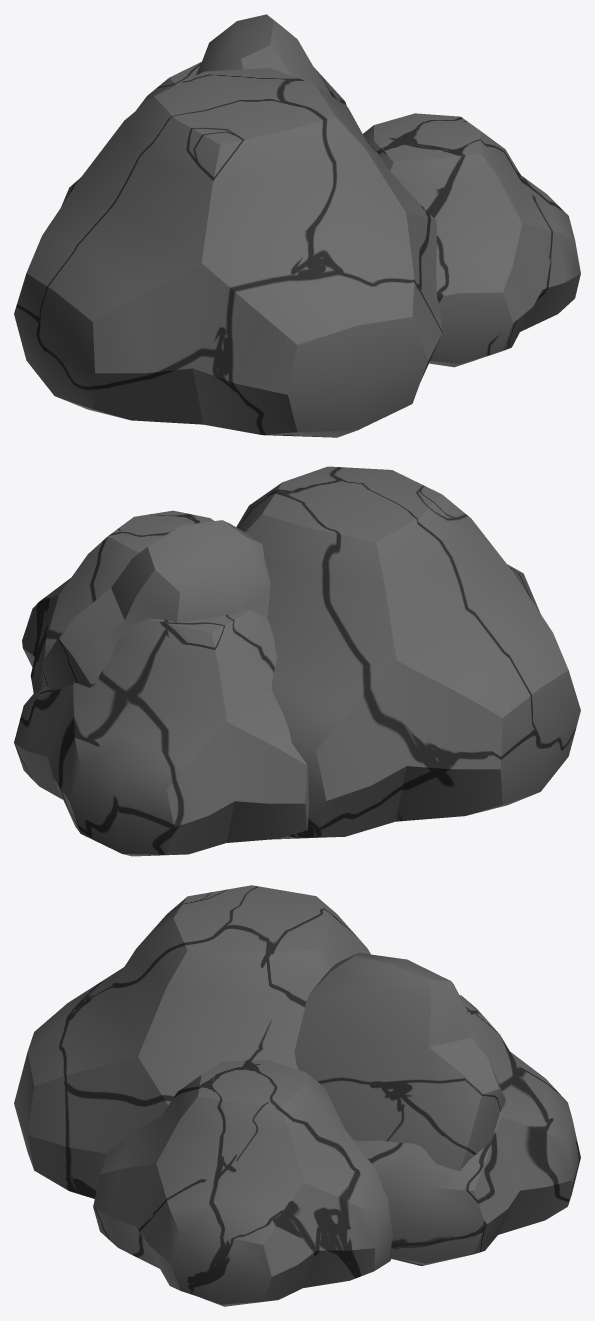
Rendered from Preda_conjunto.fbx.
The picture shows the model from 3 angles, top to bottom: view 1: azimuth 30°, elevation 25°; view 2: azimuth 150°, elevation 25°; view 3: azimuth 270°, elevation 25°; orthographic projection. The views are drawn at different scales.
Visible parts, largest first — view 1: Cube, Cube.001, Cube.003, Cube.002; view 2: Cube, Cube.002, Cube.003, Cube.001; view 3: Cube, Cube.001, Cube.003, Cube.002.
Part boxes in pixels (left/top/right/bottom): Cube: left=14, top=68, right=442, bottom=437; Cube.001: left=363, top=113, right=580, bottom=367; Cube.003: left=195, top=14, right=346, bottom=106; Cube.002: left=136, top=62, right=201, bottom=110; Cube: left=236, top=466, right=580, bottom=839; Cube.002: left=14, top=609, right=309, bottom=856; Cube.003: left=42, top=520, right=270, bottom=690; Cube.001: left=22, top=510, right=213, bottom=693; Cube: left=14, top=885, right=370, bottom=1198; Cube.001: left=93, top=1060, right=393, bottom=1306; Cube.003: left=294, top=952, right=505, bottom=1170; Cube.002: left=353, top=995, right=580, bottom=1265.
Bounding box in the file's own units: 454 × 240 × 441.
